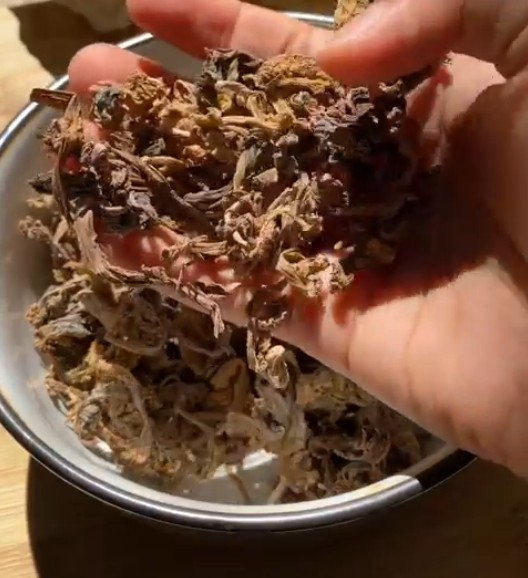gundruk: (60, 47, 447, 436)
